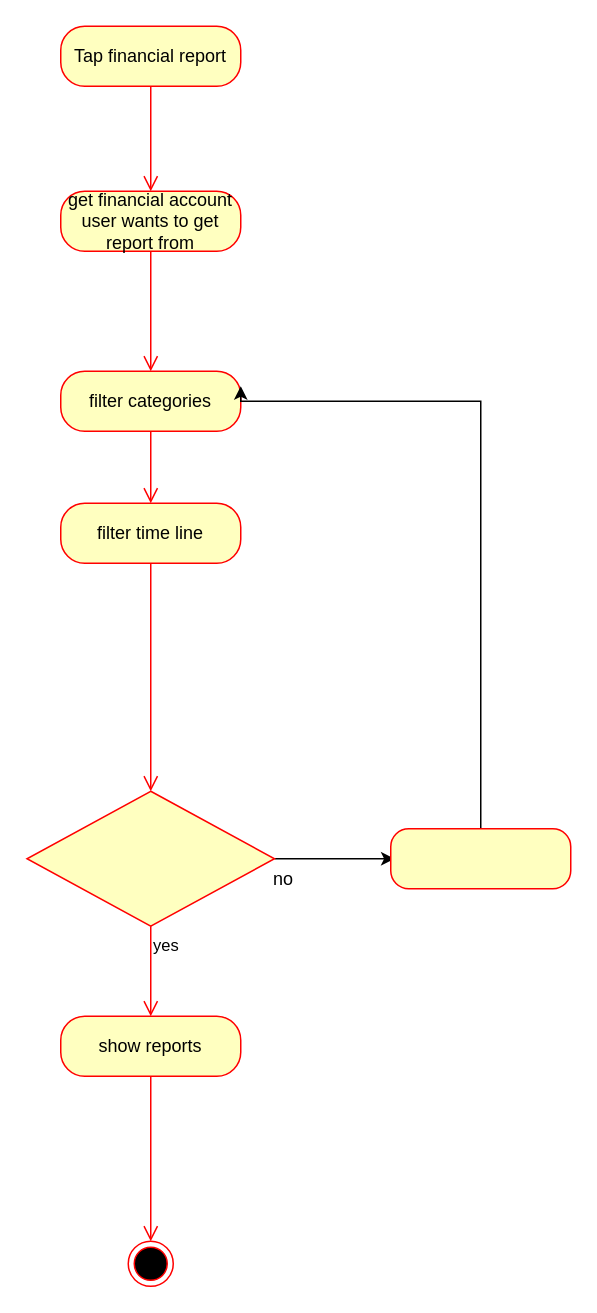
Image size: 597x1313. Some labels were removed from this diagram. Here are the shapes that lost their labels. From the top down, the centre of each, then its label:
[150,858]: Is there any result matching applied filters
[480,858]: prompt user that report is not available
